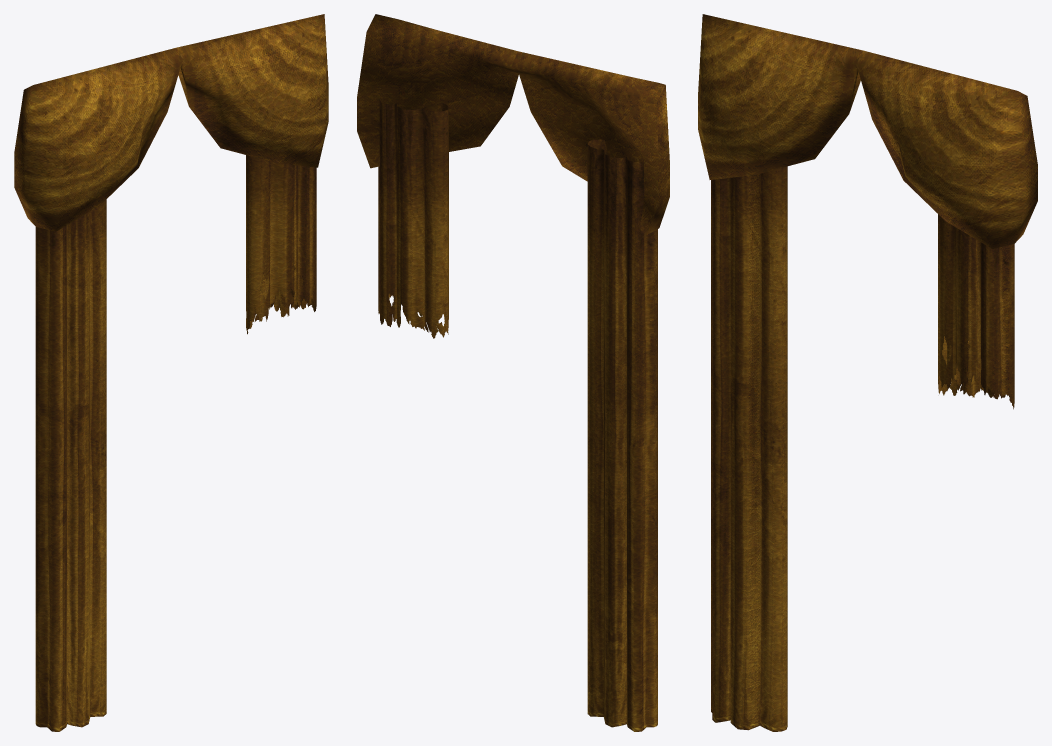
The model's file is curtain14_long_broken02.dae.
3 renders of one model, left to right at view 1: azimuth 30°, elevation 25°; view 2: azimuth 150°, elevation 25°; view 3: azimuth 330°, elevation 25°, orthographic. The views are drawn at different scales.
Visible parts, largest first — view 1: polySurface198, polySurface193, polySurface192; view 2: polySurface198, polySurface193; view 3: polySurface198, polySurface193.
Part boxes in pixels (<box>): polySurface198: <box>14,14,328,731</box>; polySurface193: <box>246,155,316,334</box>; polySurface192: <box>254,264,306,317</box>; polySurface198: <box>357,14,669,731</box>; polySurface193: <box>378,100,448,338</box>; polySurface198: <box>698,14,1037,731</box>; polySurface193: <box>938,214,1014,409</box>.
Size of what is drawn, in the model's own units: 2.5 by 5.08 by 0.4673.
